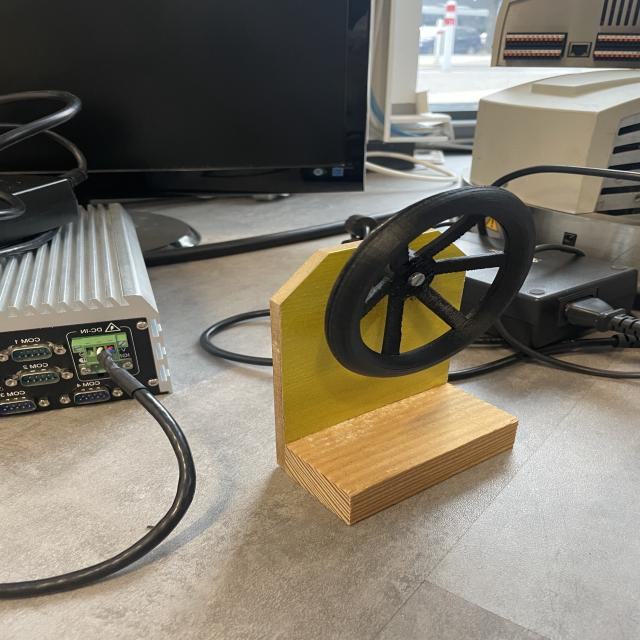Wheel Handle Valve Threaded: (312, 182, 549, 384)
